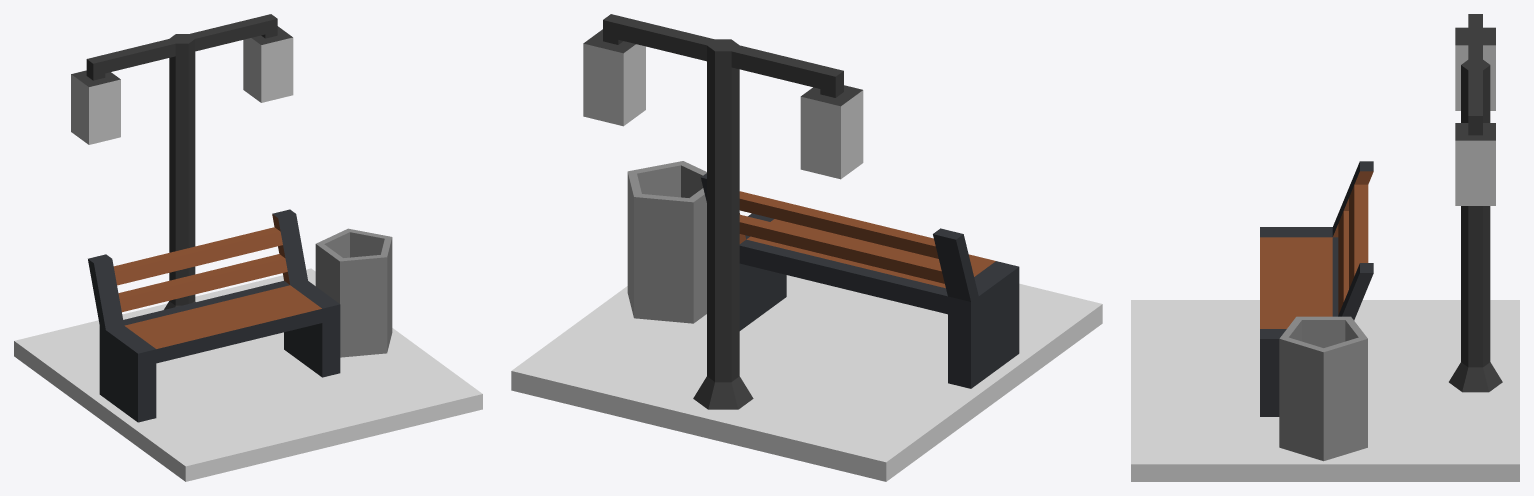
The model's file is lamp3_1.FBX.
The picture shows the model from 3 angles, left to right: view 1: azimuth 30°, elevation 25°; view 2: azimuth 150°, elevation 25°; view 3: azimuth 270°, elevation 25°; orthographic projection. The views are drawn at different scales.
Visible parts, largest first — view 1: Cylinder001, Box002; view 2: Cylinder001, Box002; view 3: Box002, Cylinder001.
Part boxes in pixels (x1=…): Cylinder001: x1=71, y1=14, x2=392, y2=422; Box002: x1=14, y1=268, x2=482, y2=481; Cylinder001: x1=583, y1=14, x2=1019, y2=409; Box002: x1=511, y1=275, x2=1102, y2=481; Box002: x1=1131, y1=300, x2=1519, y2=481; Cylinder001: x1=1260, y1=14, x2=1502, y2=461.
Size of the model in its own units: 1 by 0.9505 by 1.
Materials: 5 (5 with a texture image).
